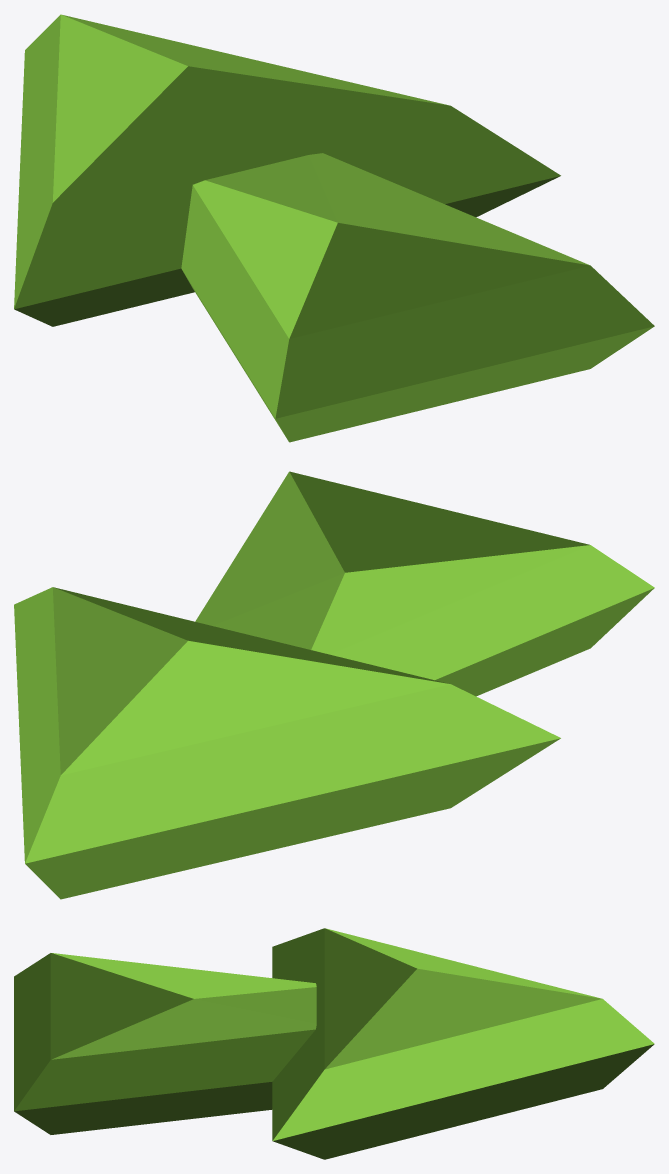
The model's file is arrow.glb.
3 views of the same model, one above another, from view 1: azimuth 30°, elevation 25°; view 2: azimuth 150°, elevation 25°; view 3: azimuth 270°, elevation 25° (orthographic). The views are drawn at different scales.
Visible parts, largest first — view 1: Cube.030; view 2: Cube.030; view 3: Cube.030.
Boxes of the visible parts, <box> form: Cube.030: <box>14,14,654,442</box>; Cube.030: <box>14,471,654,899</box>; Cube.030: <box>14,928,654,1159</box>.
Size of the model in its own units: 3.25 by 1.17 by 4.52.
Materials: 1 (1 with a texture image).
